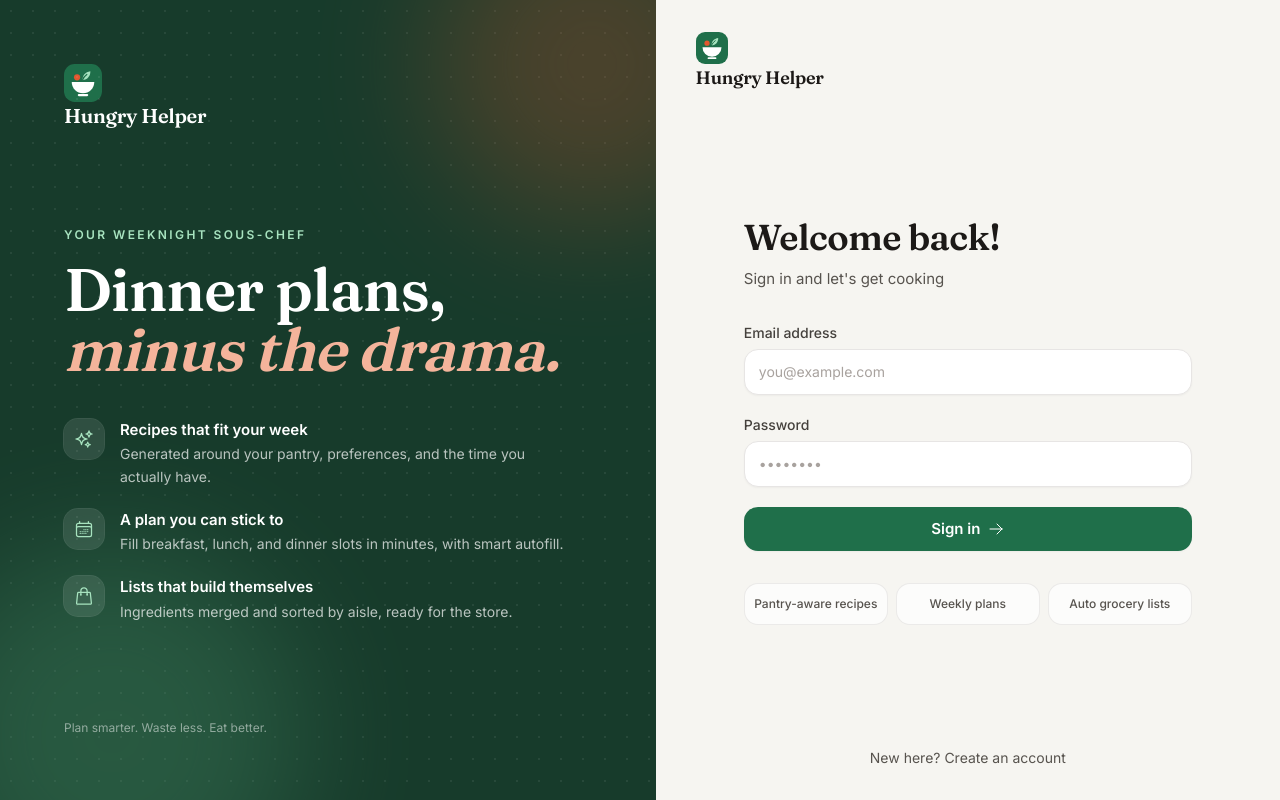
Test case: LoginPage › shows loading state during form submission
This screenshot has width=1280, height=800.
In the field labelled "Email address": (968, 372) [744, 349, 1192, 395], type "test@example.com"
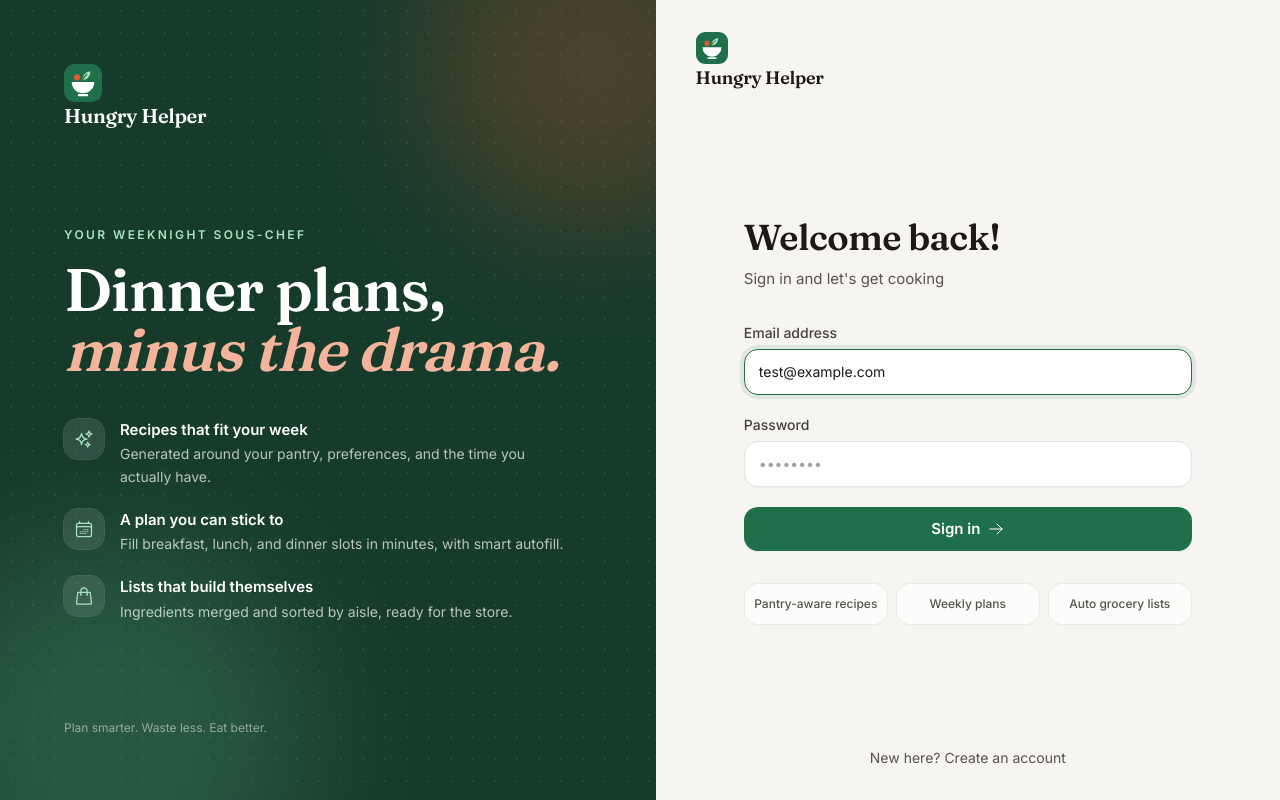
In the password field labelled "Password": (968, 464) [744, 441, 1192, 487], type "password123"
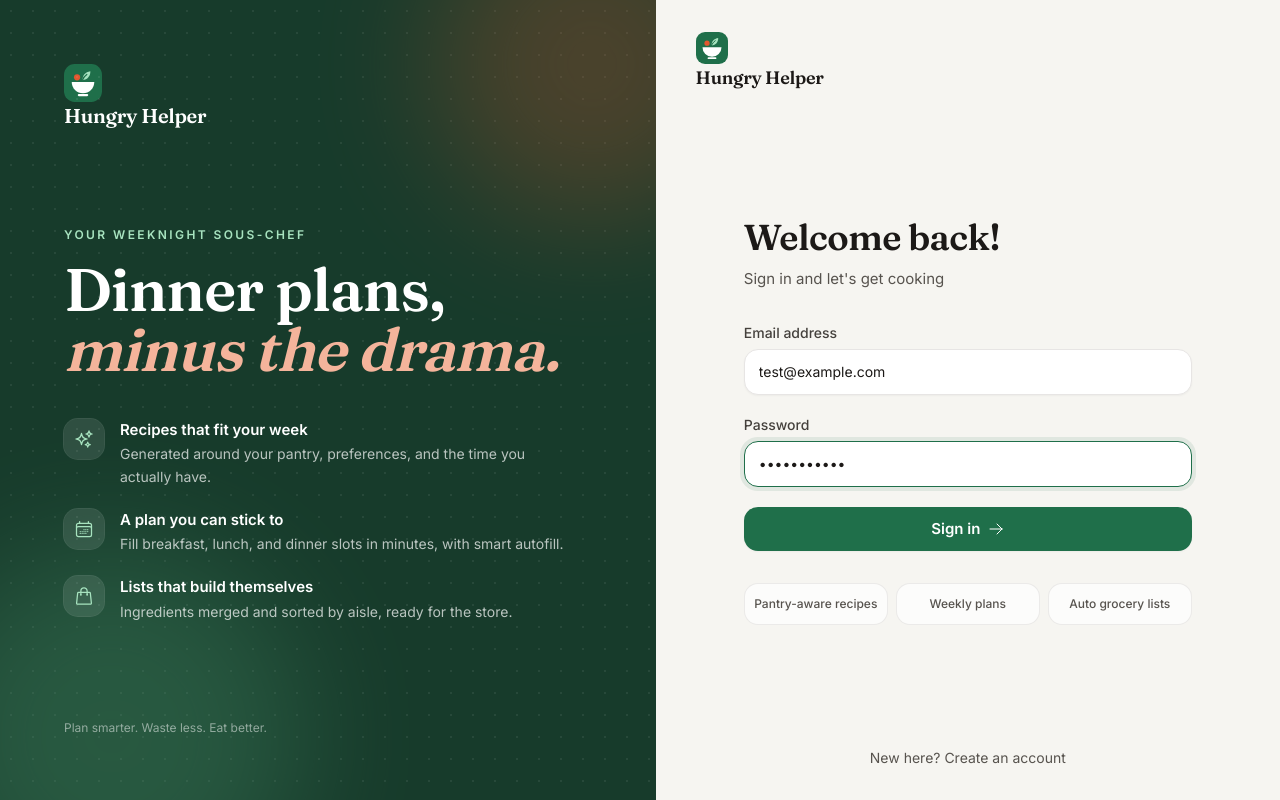
Click the button "Sign in": (968, 529) [744, 507, 1192, 551]
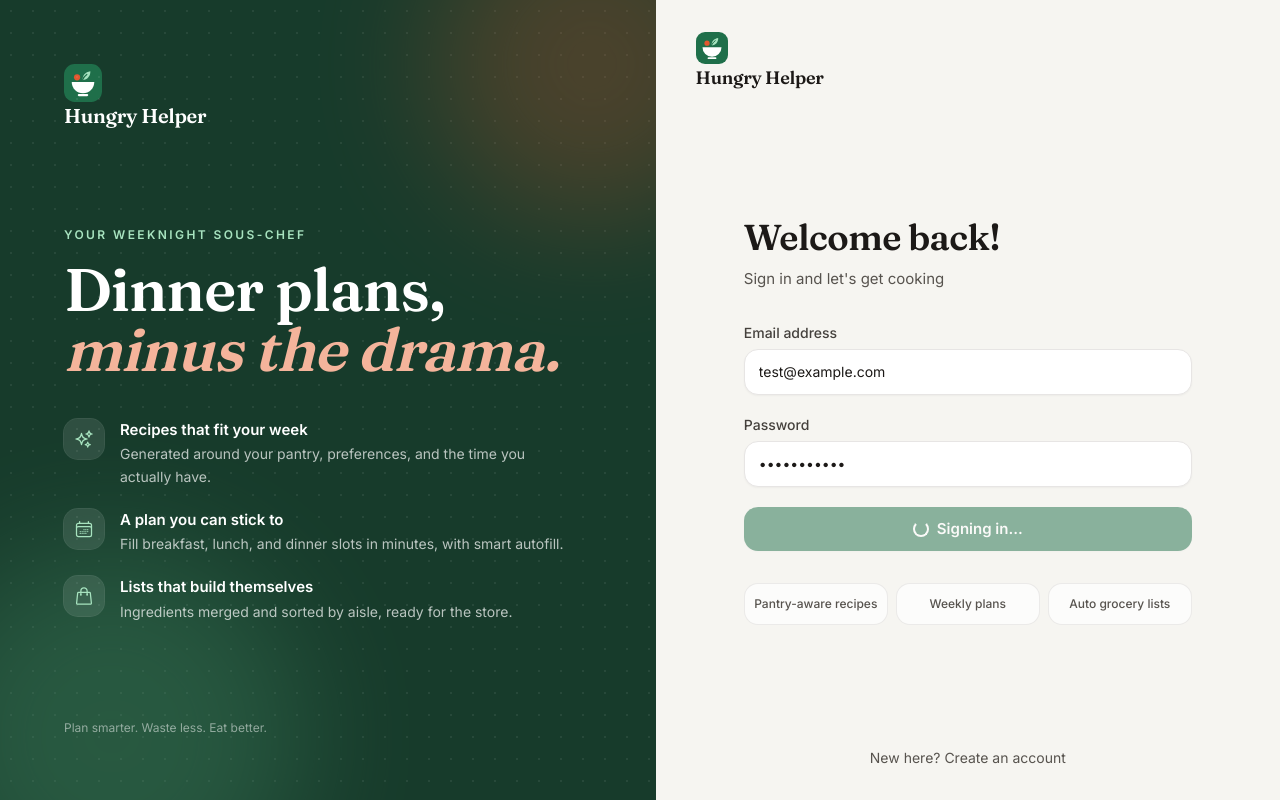
Now the button named "sign in" reads "Signing in...", box [744, 507, 1192, 551]
Now the button named "sign in" is disabled, box [744, 507, 1192, 551]
